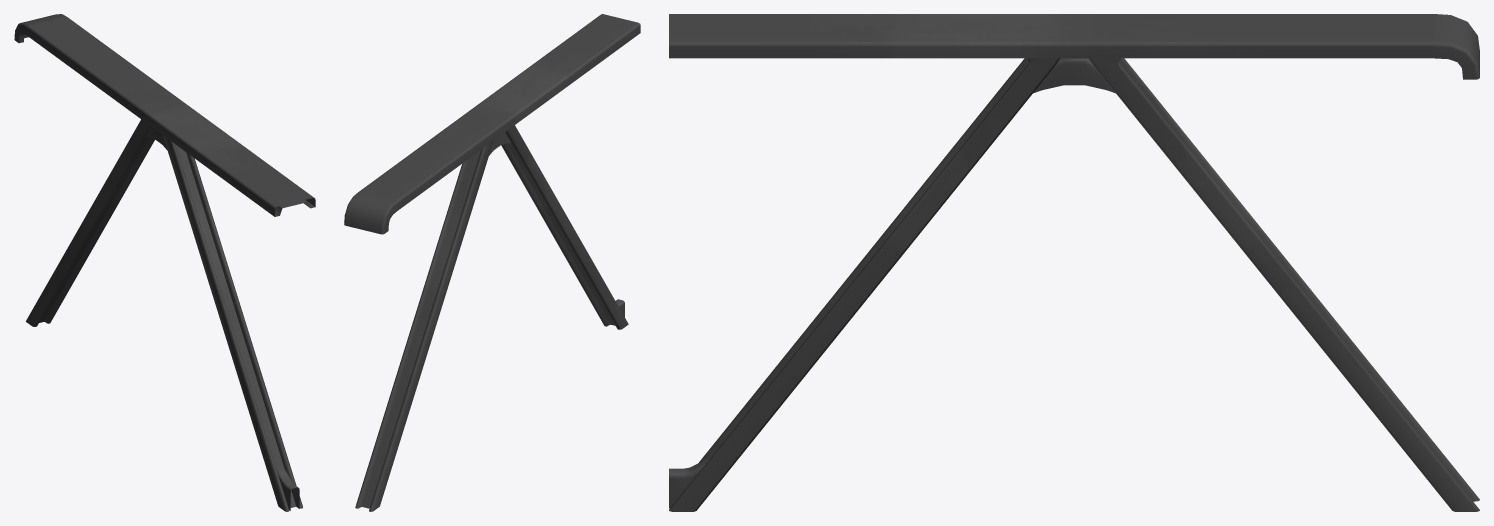
File: EN_W_fence1.fbx
The picture shows the model from 3 angles, left to right: view 1: azimuth 30°, elevation 25°; view 2: azimuth 150°, elevation 25°; view 3: azimuth 270°, elevation 25°; orthographic projection. The views are drawn at different scales.
Parts seen in each view (by area): view 1: EN_W_fence1; view 2: EN_W_fence1; view 3: EN_W_fence1.
Boxes of the visible parts, box(x1,y1,x2,y2) form: EN_W_fence1: box(14, 14, 315, 511); EN_W_fence1: box(344, 14, 640, 511); EN_W_fence1: box(669, 14, 1479, 511).
Bounding box in the file's own units: 17.96 × 130 × 200.
